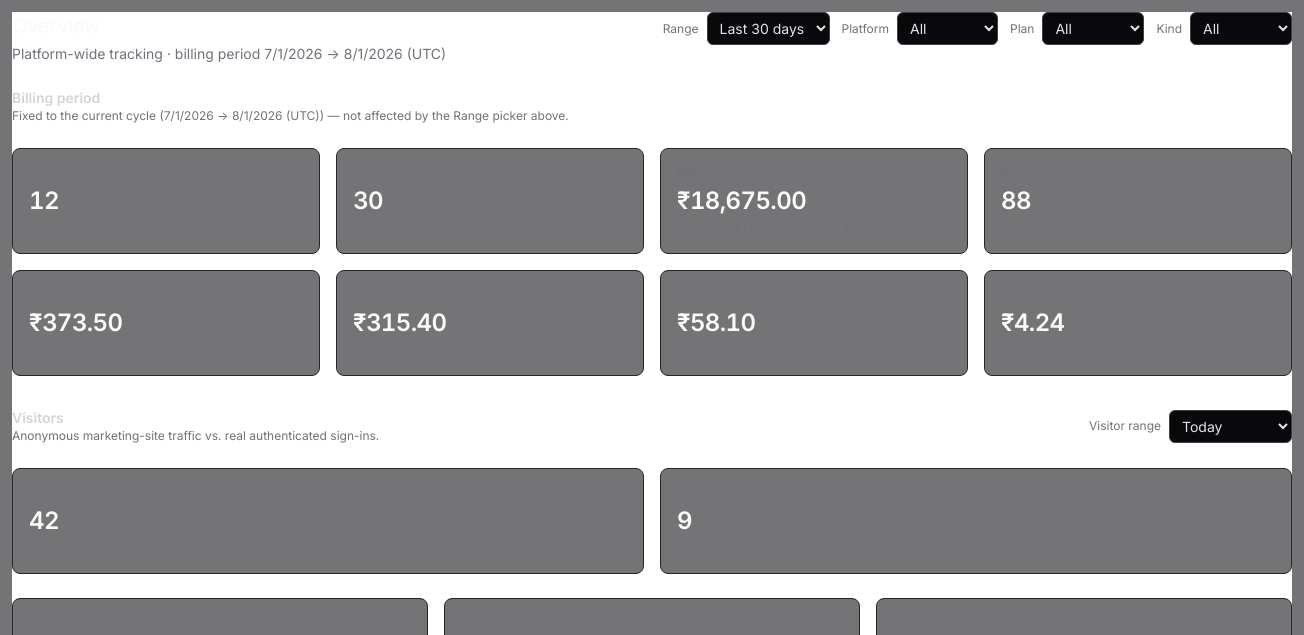
Test case: Overview page › defaults the runs query to a 30-day window and re-fetches with a wider one when the Range picker changes
Expected: the text "12" is shown, left=29, top=186, right=59, bottom=215
Select "Last 90 days" in the dropdown labelled "Range" at (768, 28), box left=706, top=12, right=830, bottom=45
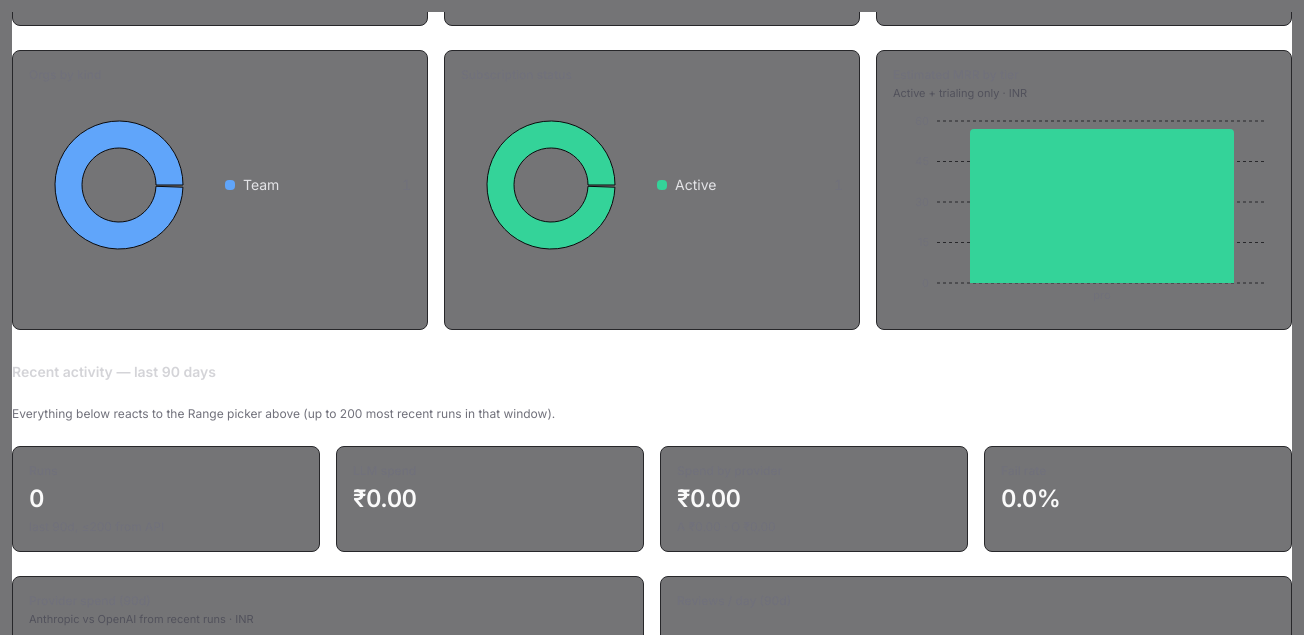
Expected: the heading "Recent activity — last 90 days" is shown, left=12, top=362, right=216, bottom=382
